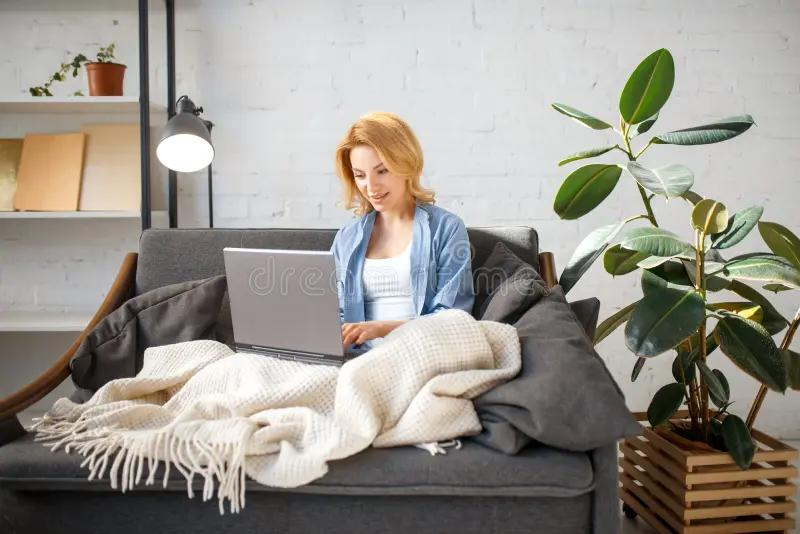blanket: (23, 308, 524, 519)
long sleeve shirt: (328, 200, 477, 357)
vest: (361, 236, 418, 350)
